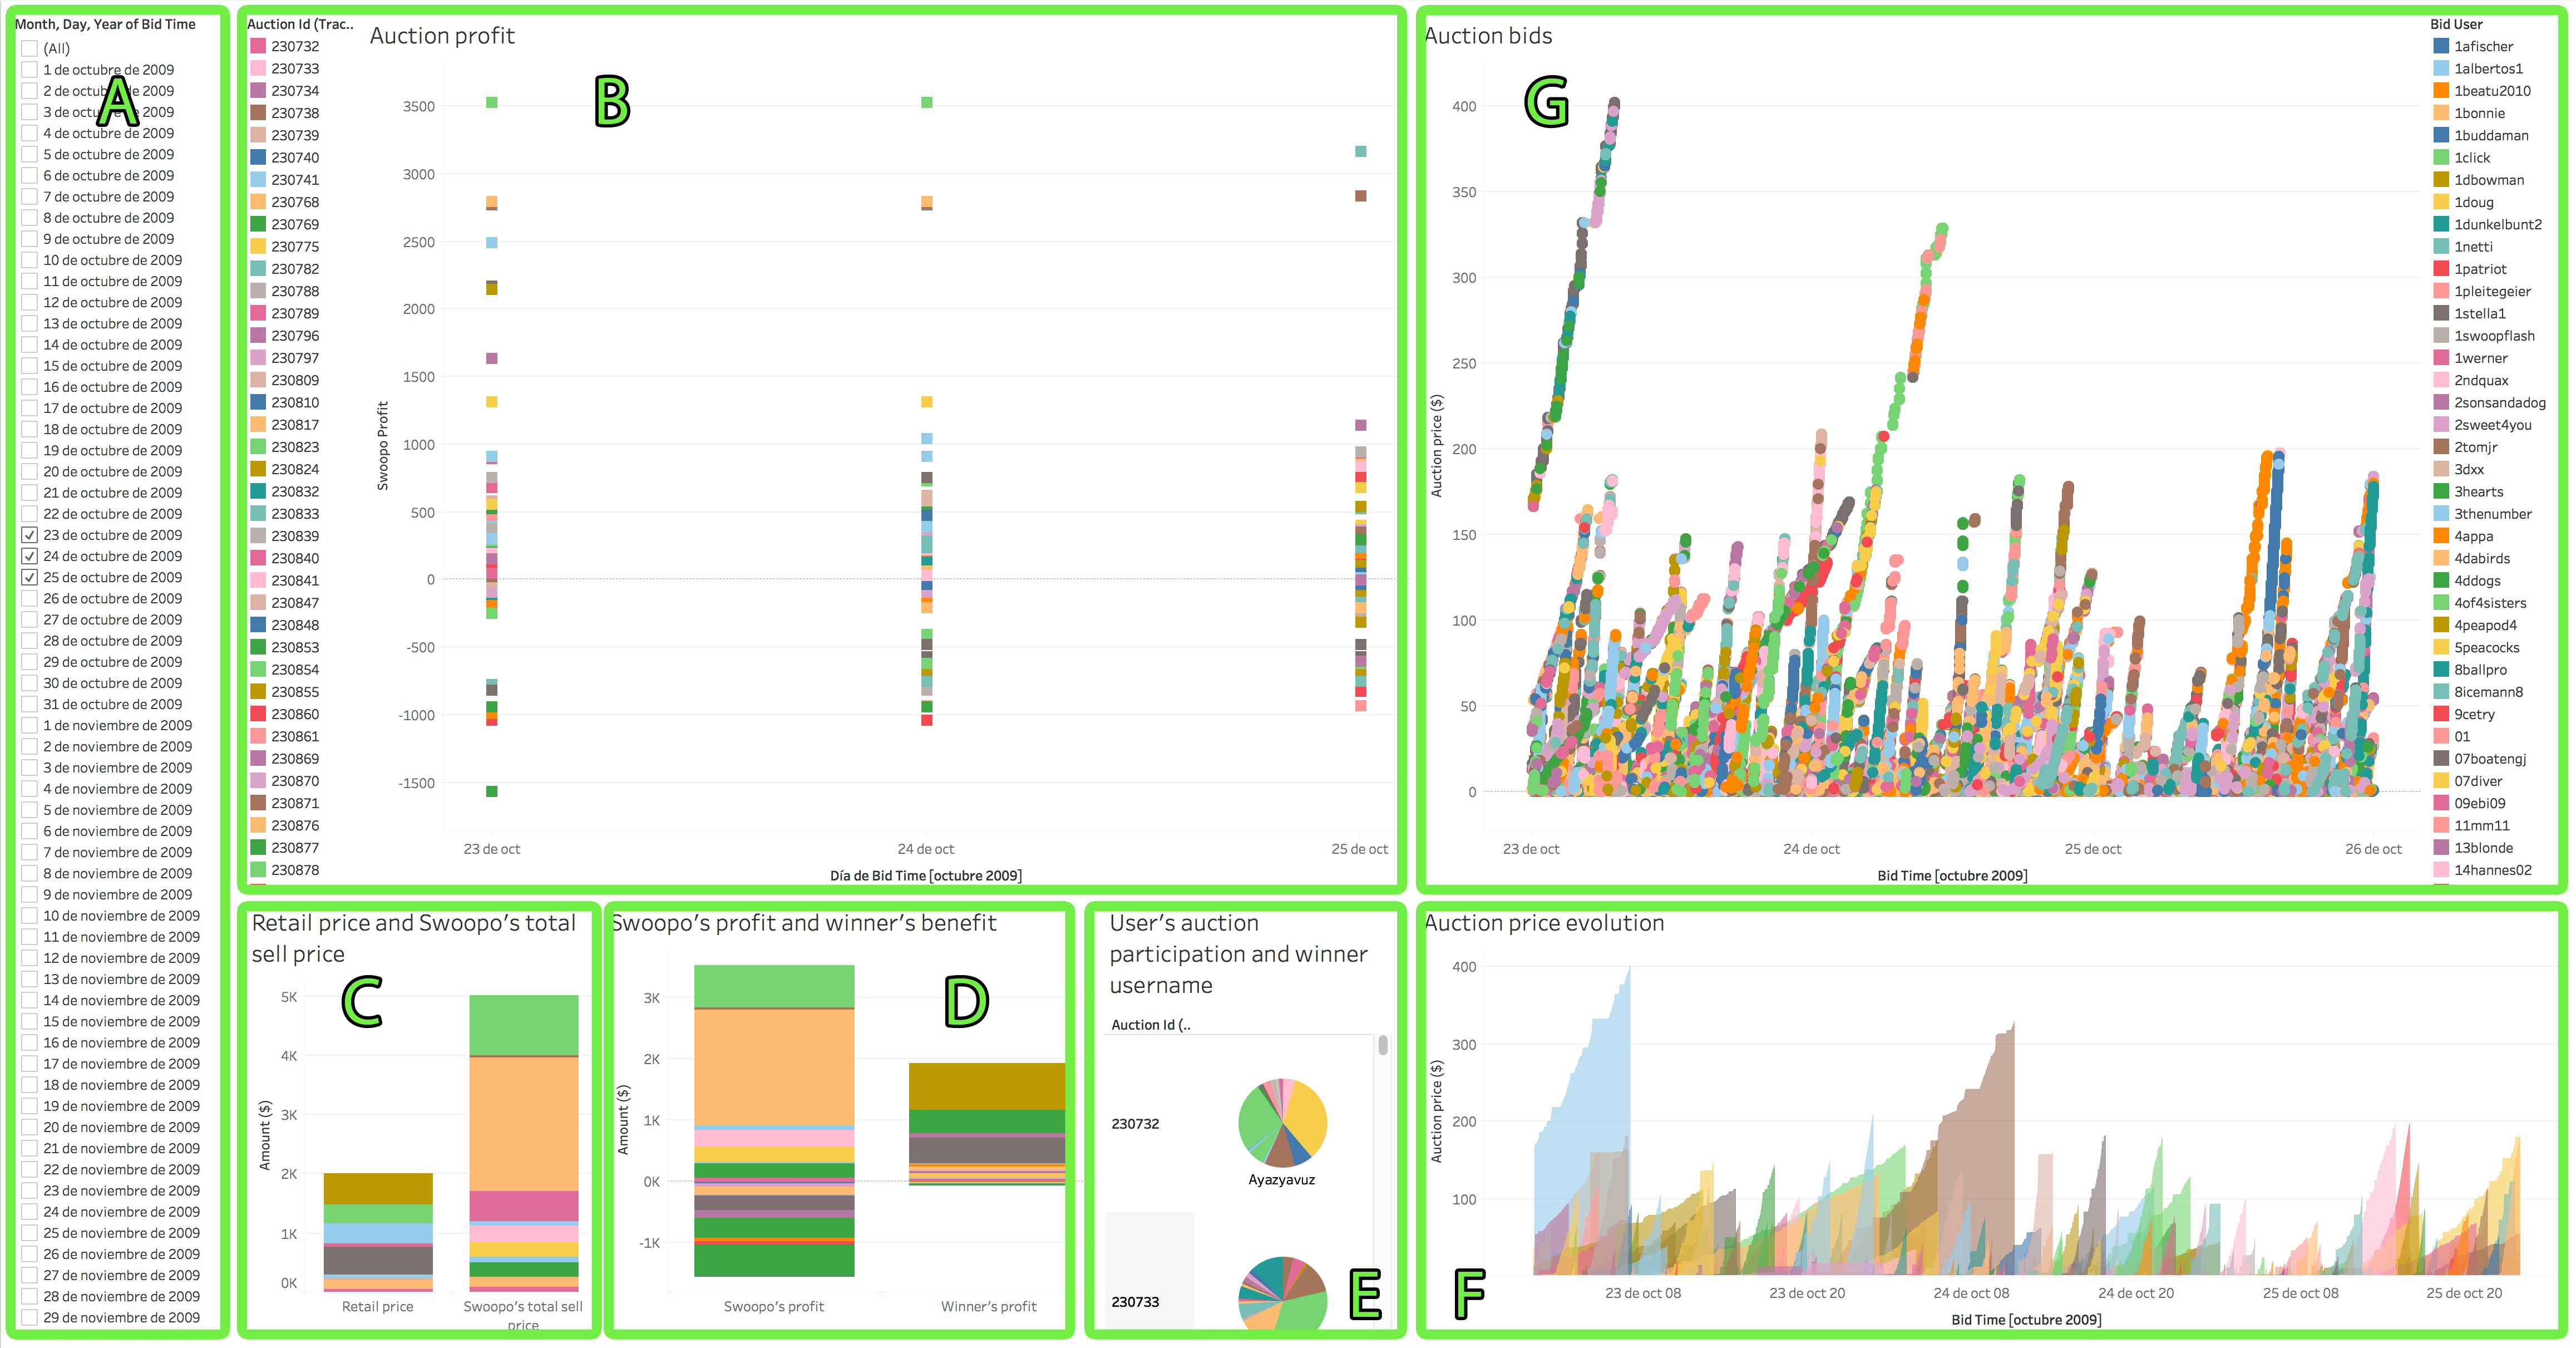

The page's visual inventory and layout, read from the dashboard file:
{"tool":"tableau","page":{"name":"Dashboard","canvas":[1000,1000],"units":"permille","ordinal":0},"visuals":[{"type":"filter","title":"Auction profit","param":"[federated.0qq0jvo1fasi1912zp8rx17w9vlu].[md:bid_time:ok]","box":[3.5,6.6,90.1,986.8]},{"type":"legend","title":"Auction profit","param":"[federated.0qq0jvo1fasi1912zp8rx17w9vlu].[none:auction_id (traces_clean.tsv):ok]","box":[93.5,6.6,45.7,657.9]},{"type":"worksheet","title":"Auction profit","mark":"Square","rows":["swoopo_profit"],"cols":["bid_time"],"box":[139.2,6.6,408,657.9]},{"type":"worksheet","title":"Auction bids","mark":"Circle","rows":["bid_cp"],"cols":["bid_time"],"box":[547.3,6.6,392,657.9]},{"type":"legend","title":"User's auction participation and winner username","param":"[federated.0qq0jvo1fasi1912zp8rx17w9vlu].[none:bid_user:nk]","box":[939.2,6.6,57.3,657.9]},{"type":"worksheet","title":"Retail price and Swoopo's total sell price","mark":"Bar","box":[93.5,664.5,138.6,328.9]},{"type":"worksheet","title":"Swoopo's profit and winner's benefit","mark":"Bar","box":[232.1,664.5,193.7,328.9]},{"type":"worksheet","title":"User's auction participation and winner username","mark":"Pie","rows":["auction_id (traces_clean.tsv)"],"box":[425.9,664.5,121.5,328.9]},{"type":"worksheet","title":"Auction price evolution","mark":"Area","rows":["bid_cp"],"cols":["bid_time"],"box":[547.4,664.5,449.1,328.9]}]}

Visuals, with their boxes on the dashboard's canvas, which has no fixed pixel size, in thousandths of its width and height (x1, y1, x2, y2). These are canvas units, not pixel positions in the 2576x1348 screenshot, which may show the page scaled, cropped or inside an application window:
"Auction profit" filter: 4,7,94,993
"Auction profit" legend: 94,7,139,664
"Auction profit" worksheet (Square marks): 139,7,547,664
"Auction bids" worksheet (Circle marks): 547,7,939,664
"User's auction participation and winner username" legend: 939,7,996,664
"Retail price and Swoopo's total sell price" worksheet (Bar marks): 94,664,232,993
"Swoopo's profit and winner's benefit" worksheet (Bar marks): 232,664,426,993
"User's auction participation and winner username" worksheet (Pie marks): 426,664,547,993
"Auction price evolution" worksheet (Area marks): 547,664,996,993
